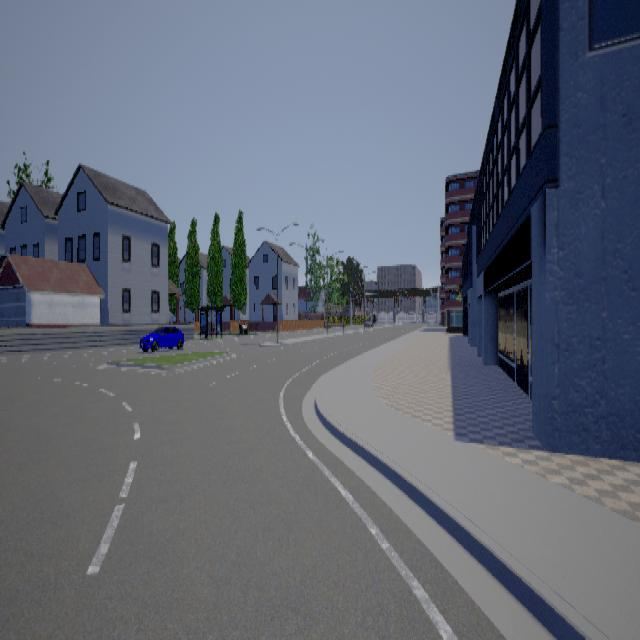vehicle: (138, 325, 184, 350)
